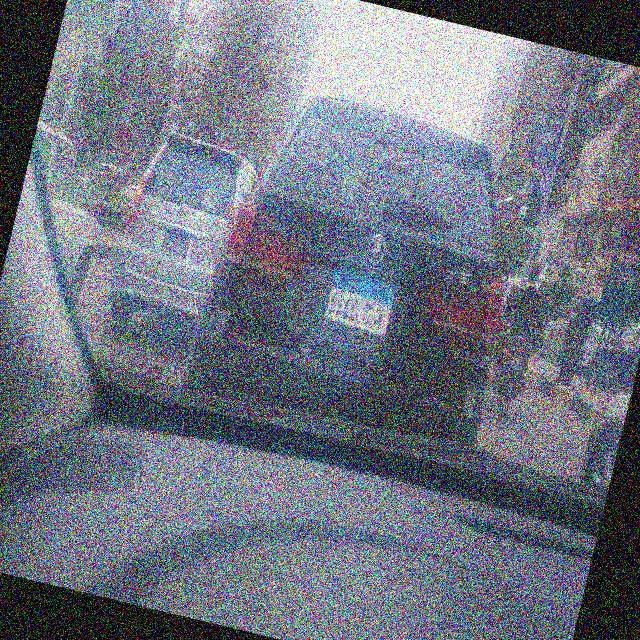License Plate: (319, 260, 404, 343)
